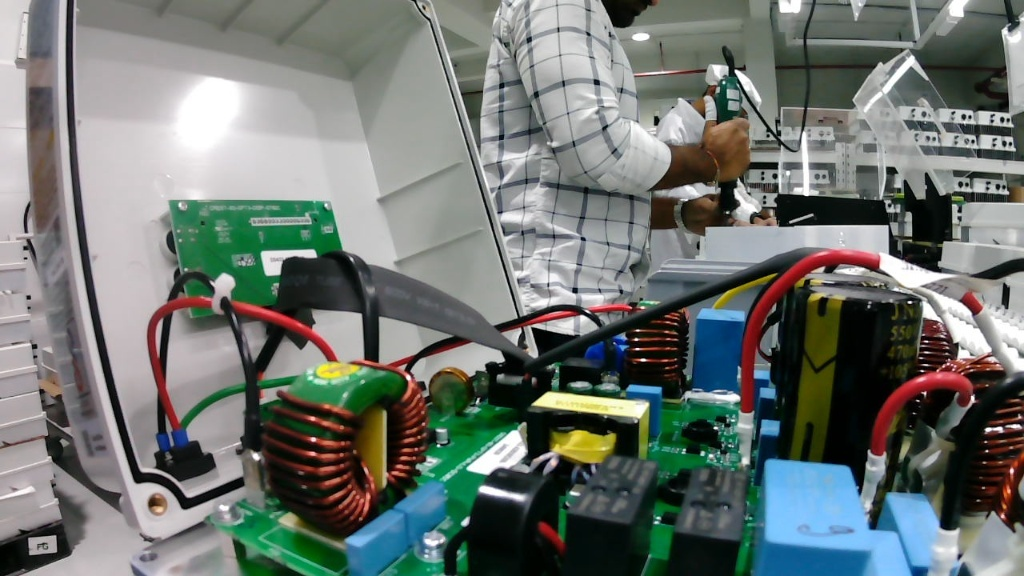wire_red: (131, 356, 220, 487)
